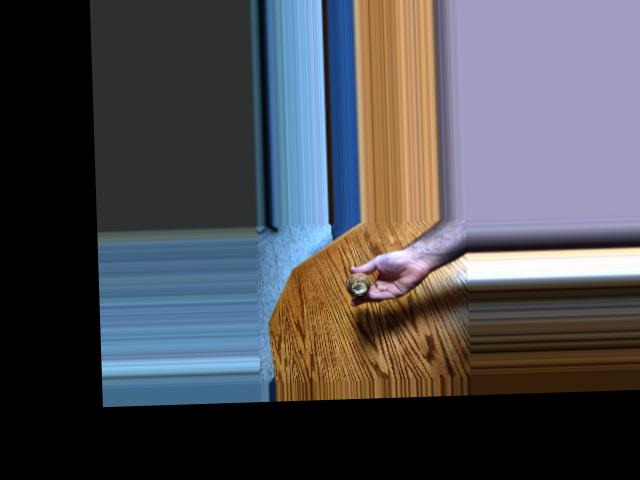sweet_potato: (344, 269, 368, 296)
